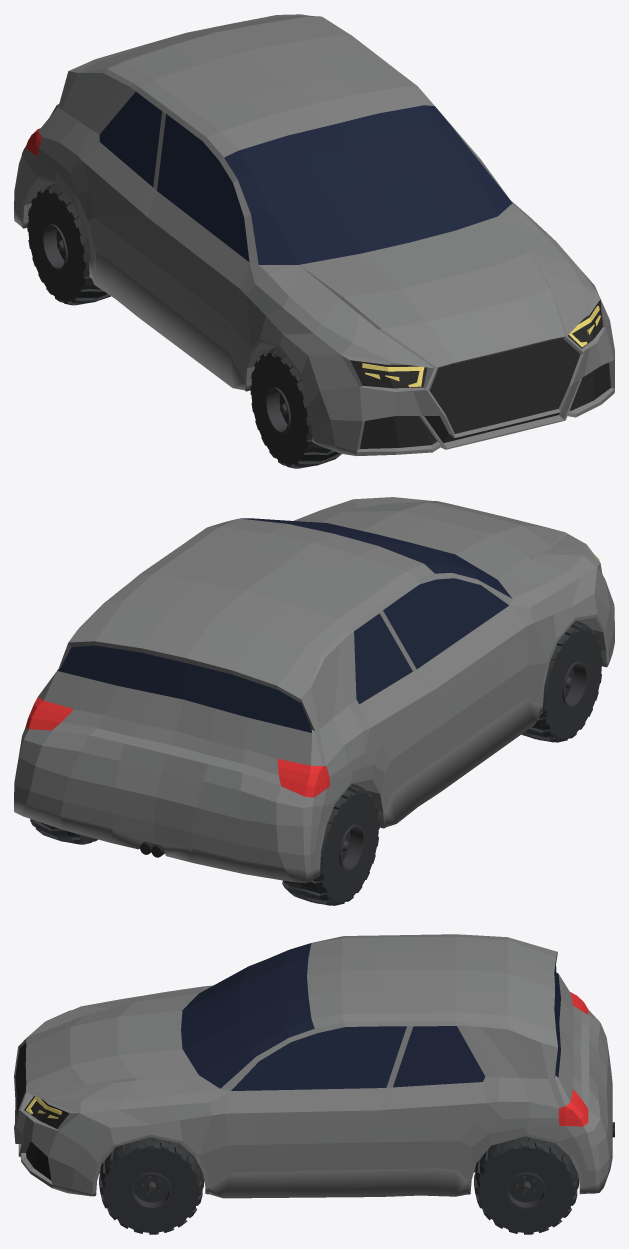
3 views of the same model, one above another, from view 1: azimuth 30°, elevation 25°; view 2: azimuth 150°, elevation 25°; view 3: azimuth 270°, elevation 25° (orthographic). The views are drawn at different scales.
Parts seen in each view (by area): view 1: Body, Windows, Shaded body, Front_wheel.004, Front_wheel.003, Front lights; view 2: Body, Windows, Front_wheel.003, Front_wheel.004, Rear lights cage, Front_wheel.002; view 3: Body, Windows, Front_wheel.002, Front_wheel.001, Shaded body, Rear lights cage.
Part boxes in pixels (x1,y1,x2,y2): Body: (14, 14, 614, 455); Windows: (99, 92, 512, 264); Shaded body: (350, 299, 610, 448); Front_wheel.004: (250, 347, 341, 468); Front_wheel.003: (27, 183, 110, 305); Front lights: (362, 306, 600, 387); Body: (14, 497, 614, 883); Windows: (57, 518, 512, 732); Front_wheel.003: (282, 784, 379, 905); Front_wheel.004: (521, 621, 602, 742); Rear lights cage: (25, 697, 330, 797); Front_wheel.002: (30, 819, 97, 844); Body: (14, 934, 612, 1198); Windows: (181, 943, 560, 1090); Front_wheel.002: (474, 1136, 578, 1234); Front_wheel.001: (99, 1137, 204, 1234); Shaded body: (15, 1043, 69, 1180); Rear lights cage: (558, 992, 588, 1126).
Size of the model in its own units: 815 by 637 by 1671.
